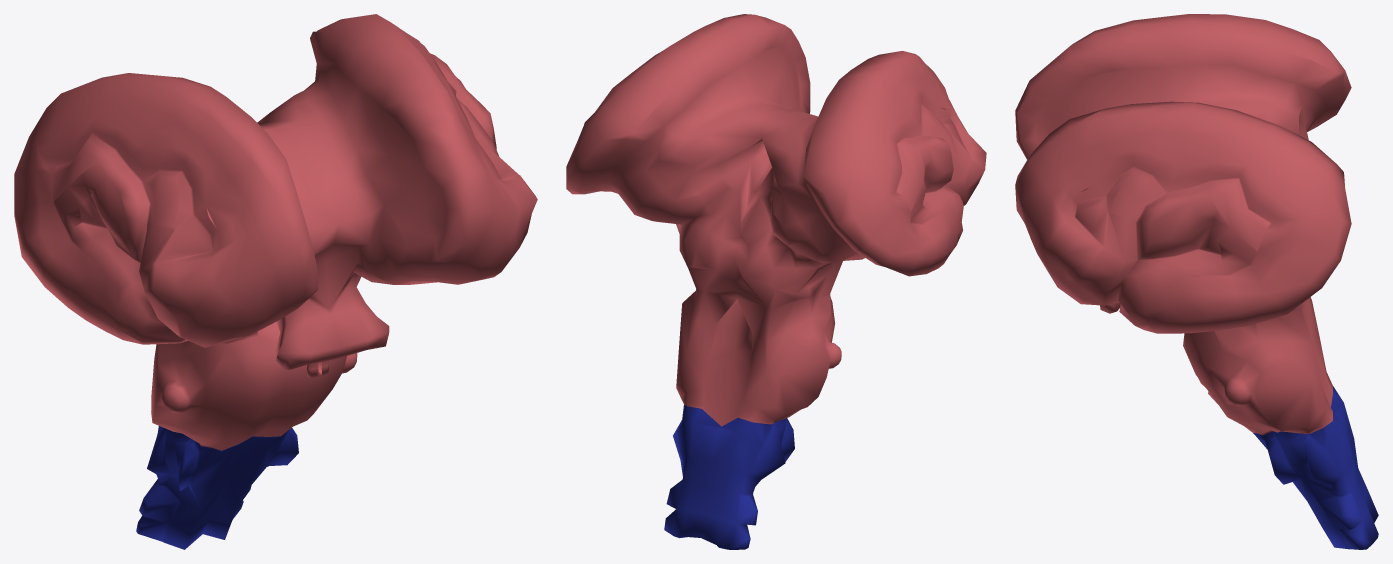
The model's file is medulla.glb.
3 renders of one model, left to right at view 1: azimuth 30°, elevation 25°; view 2: azimuth 150°, elevation 25°; view 3: azimuth 270°, elevation 25°, orthographic. The views are drawn at different scales.
Visible parts, largest first — view 1: Brain_Part_05.001; view 2: Brain_Part_05.001; view 3: Brain_Part_05.001.
Boxes of the visible parts, bbox=[...] form: Brain_Part_05.001: bbox=[14, 14, 537, 549]; Brain_Part_05.001: bbox=[566, 14, 986, 549]; Brain_Part_05.001: bbox=[1015, 14, 1378, 549].
Bounding box in the file's own units: 2.41 × 2.92 × 2.02.
